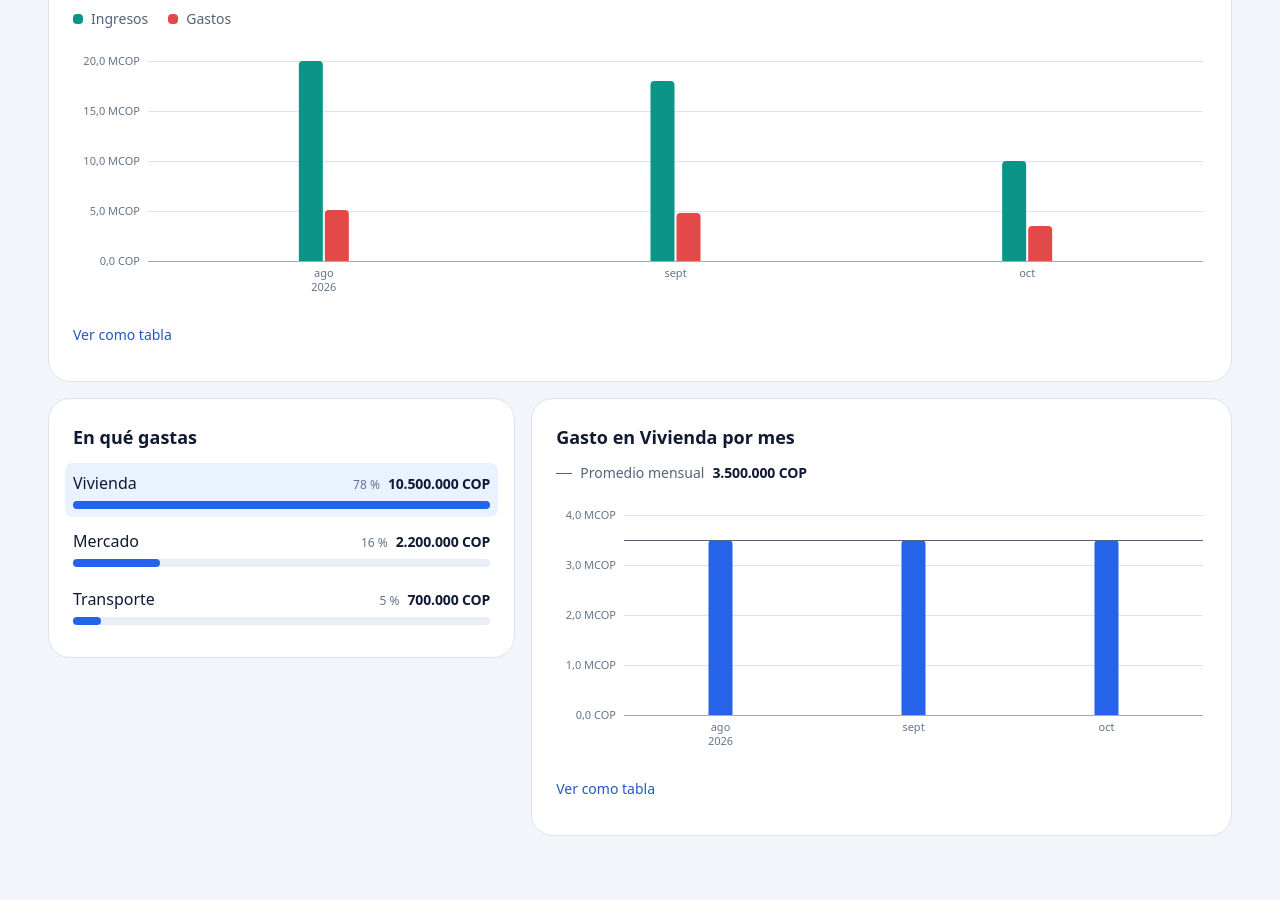
Reportes › ranks categories with subcategories rolled up, and charts the one you pick
(page scrolled)
Expected: the element "Gasto en Vivienda por mes" is shown, 531,398 -> 1232,836
Click the button "Transporte 5 % 700.000 COP".
click(114, 599)  # box 65,579 -> 498,633
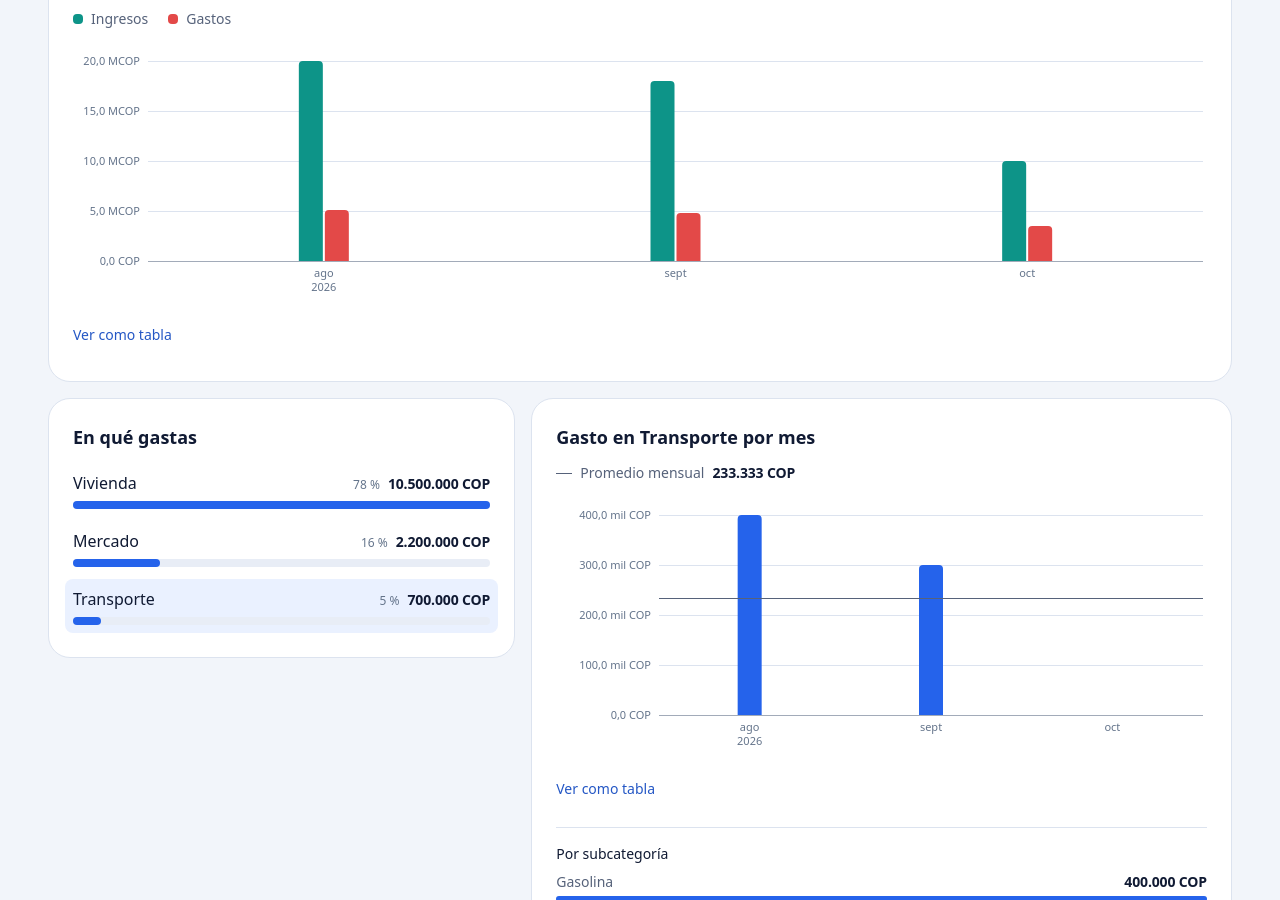
Expected: the text "Gasolina" is shown, 556,872 -> 613,892
Expected: the text "233.333 COP" is shown, 712,463 -> 795,483
